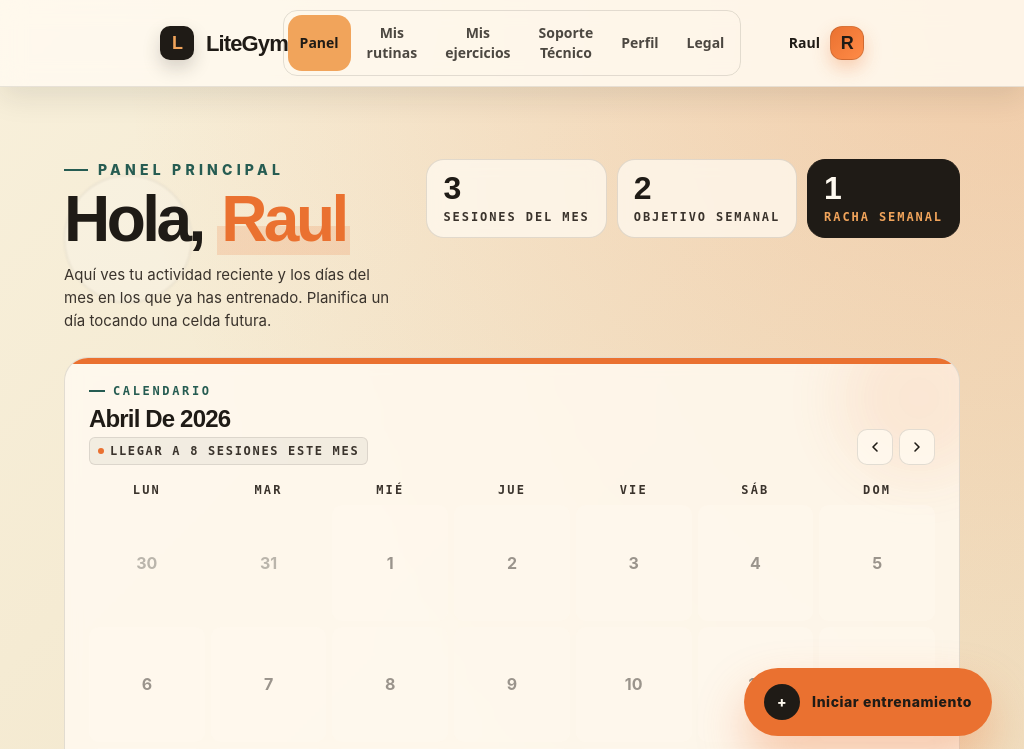
Test: DashboardPage › starts with the profile menu closed and lets the user open and close it
Expected: the button "Cerrar sesión" is not shown
Click the button named "Abrir menu de perfil" at {"x": 847, "y": 43}, box [830,26,864,60]
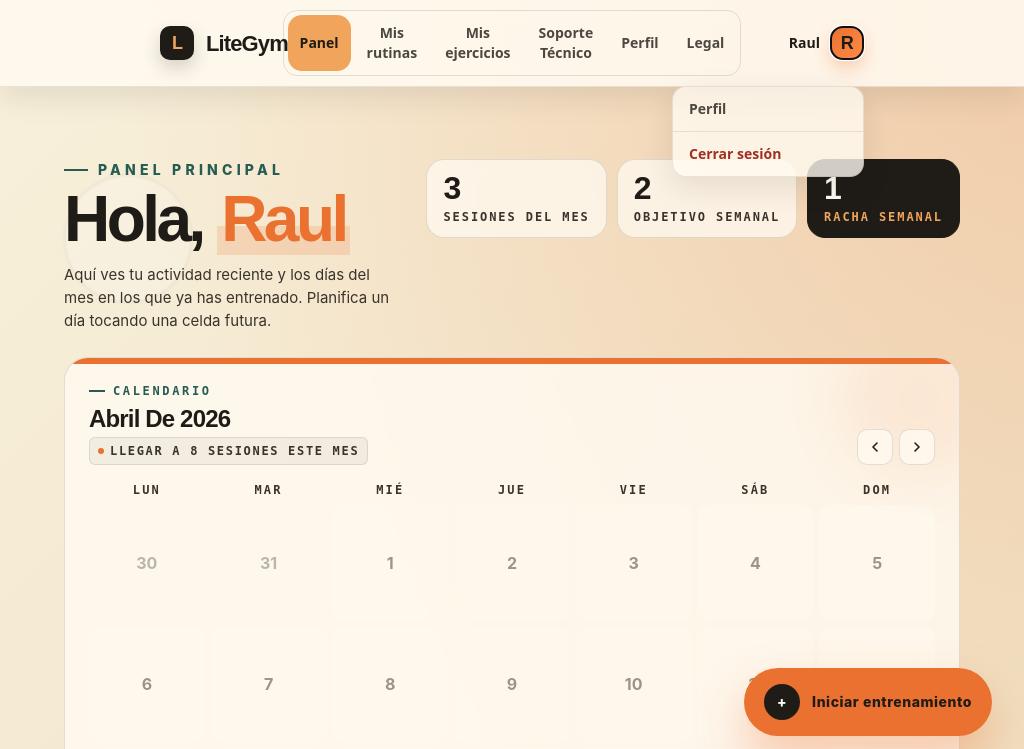
Result: the button named "Abrir menu de perfil" is expanded at [830,26,864,60]
Result: the button "Cerrar sesión" is shown at [673,131,863,176]
Click the heading "Hola, raul" at {"x": 133, "y": 219}, box [64,183,350,255]
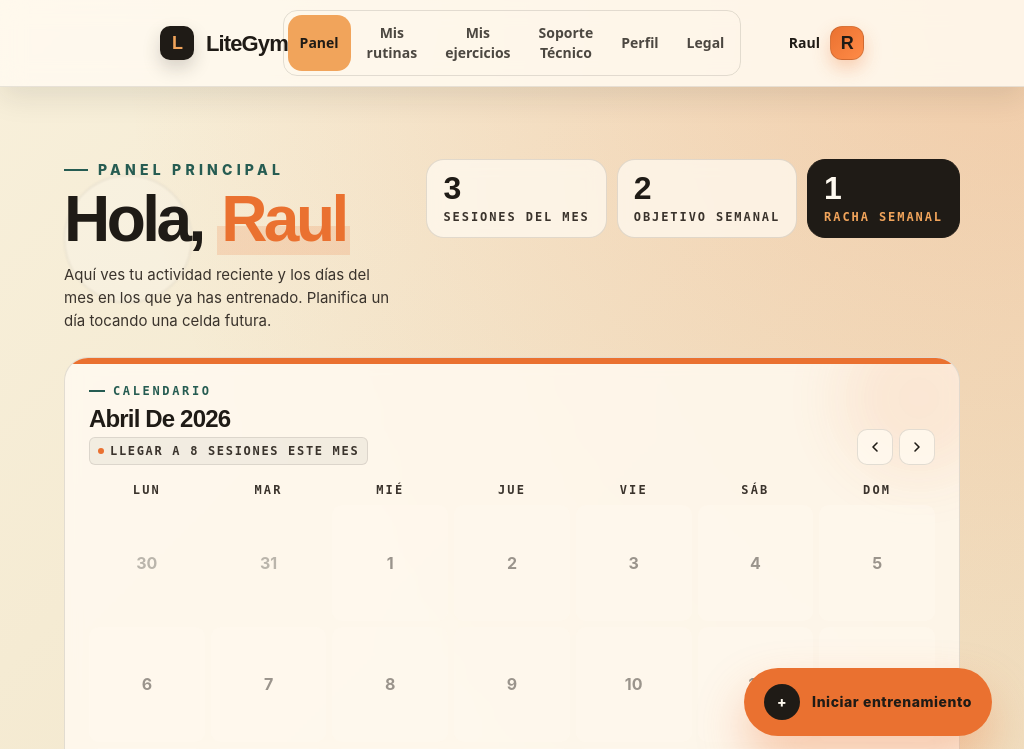
Result: the button named "Abrir menu de perfil" is collapsed at [830,26,864,60]
Result: the button "Cerrar sesión" is gone
